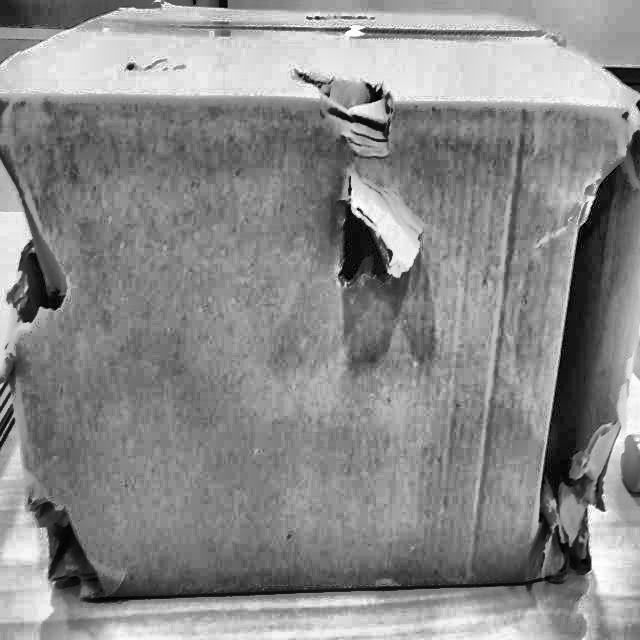box: (0, 3, 639, 622)
hole: (537, 100, 639, 581), (0, 98, 75, 329), (28, 464, 116, 611), (330, 167, 426, 291), (291, 59, 397, 160)
